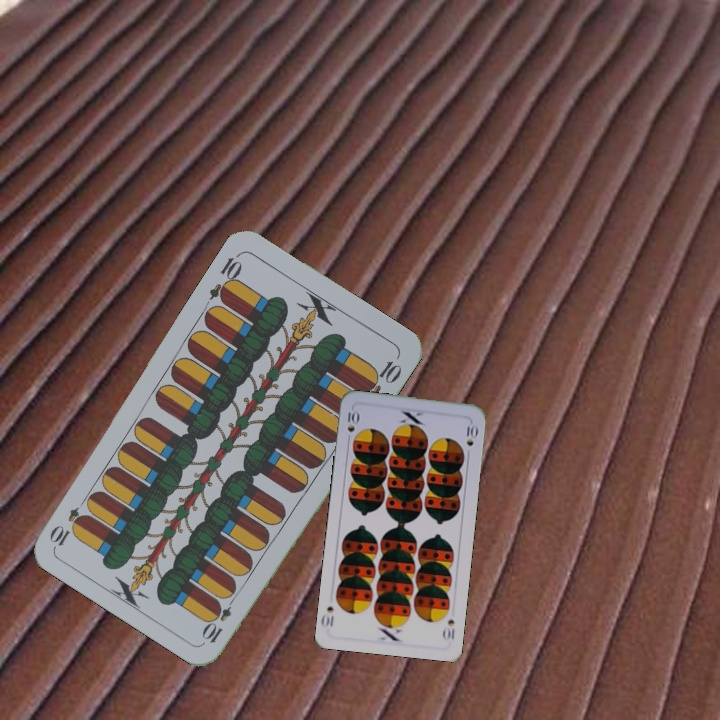E10: (205, 249, 245, 306), (199, 590, 239, 646)
S10: (343, 405, 361, 445), (439, 615, 457, 642)
